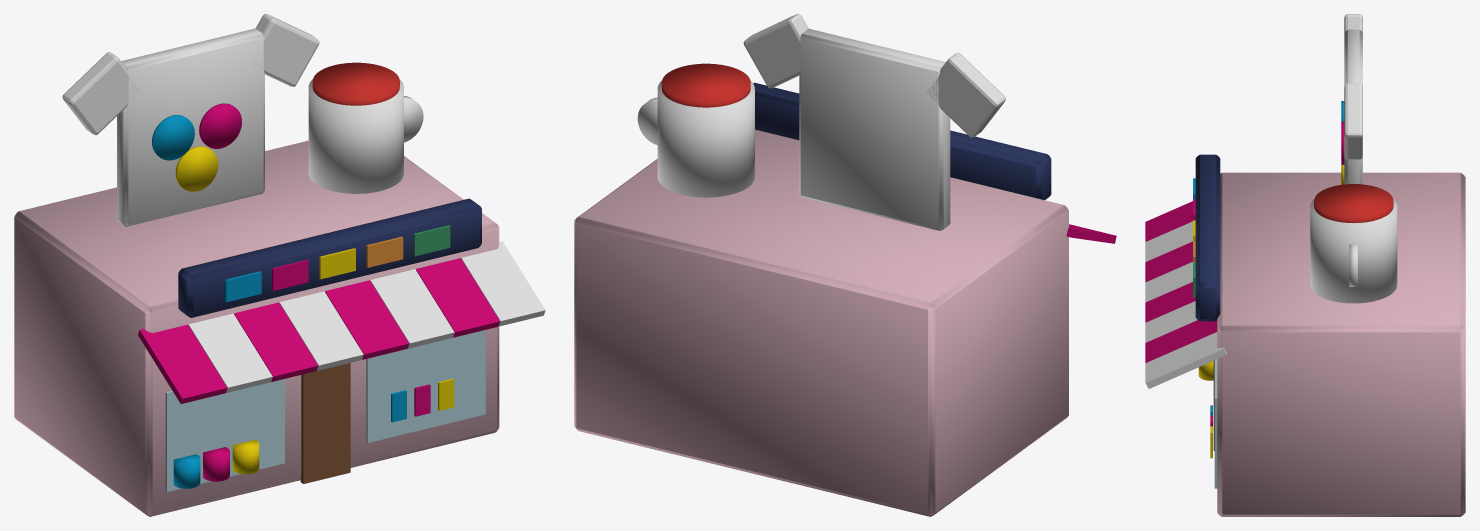
3 renders of one model, left to right at view 1: azimuth 30°, elevation 25°; view 2: azimuth 150°, elevation 25°; view 3: azimuth 270°, elevation 25°, orthographic. The views are drawn at different scales.
Parts seen in each view (by area): view 1: lm_15; view 2: lm_15; view 3: lm_15.
Boxes of the visible parts, x1,y1,x2,y2 form: lm_15: [14, 14, 545, 516]; lm_15: [574, 14, 1116, 516]; lm_15: [1145, 14, 1465, 516].
Size of the model in its own units: 0.6187 by 0.649 by 0.5156.
